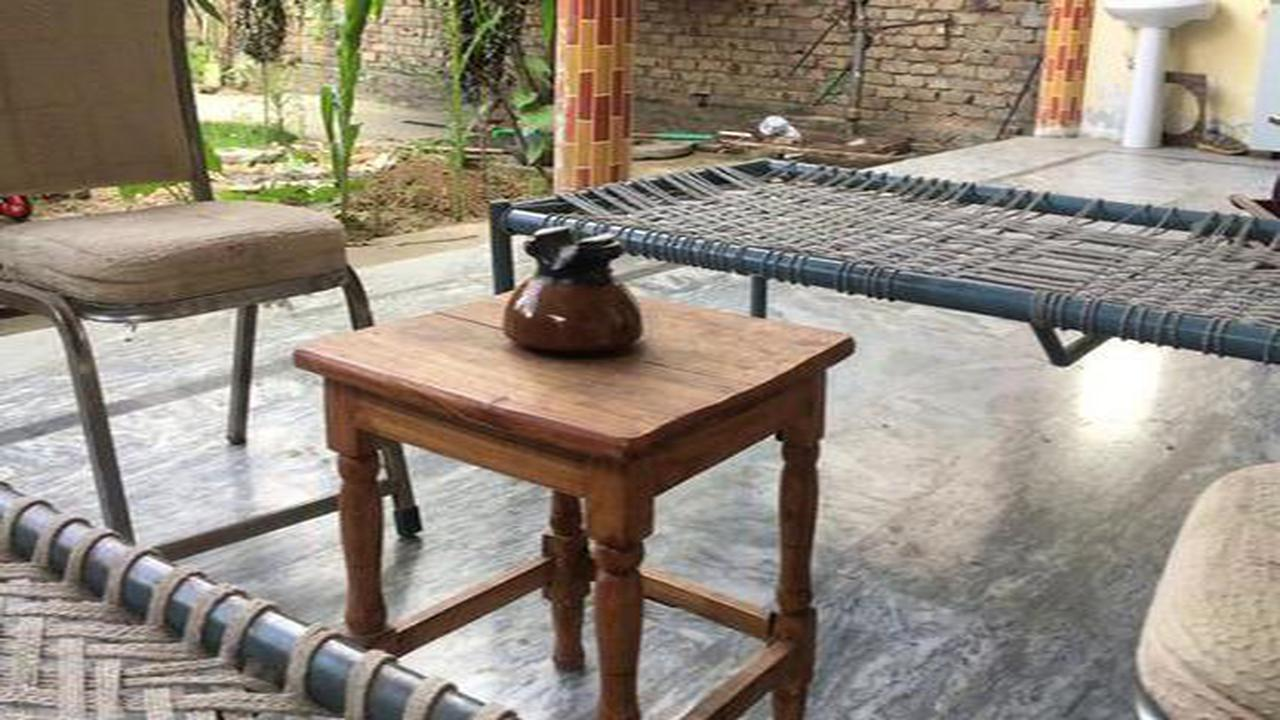insulator_pin: (490, 213, 665, 373)
